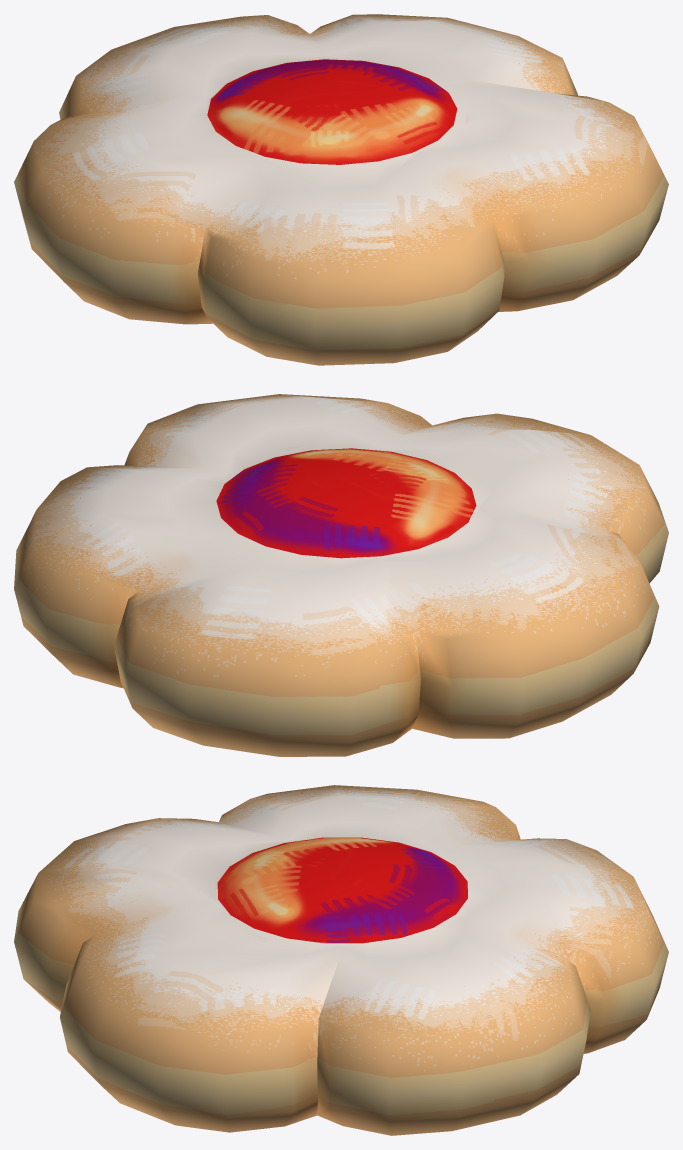
The model's file is Cookie(1).fbx.
3 views of the same model, one above another, from view 1: azimuth 30°, elevation 25°; view 2: azimuth 150°, elevation 25°; view 3: azimuth 270°, elevation 25° (orthographic). The views are drawn at different scales.
Visible parts, largest first — view 1: Cookie; view 2: Cookie; view 3: Cookie.
Boxes of the visible parts, x1,y1,x2,y2 form: Cookie: [14, 14, 668, 365]; Cookie: [14, 394, 668, 756]; Cookie: [14, 785, 668, 1135].
Size of the model in its own units: 432 by 112 by 441.
Materials: 1 (1 with a texture image).
